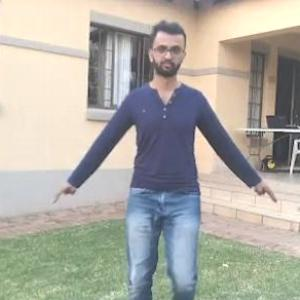land: (95, 67, 227, 295)
